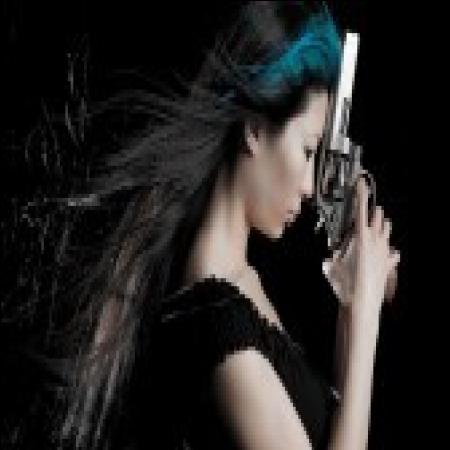Pistol: (313, 16, 391, 277)
